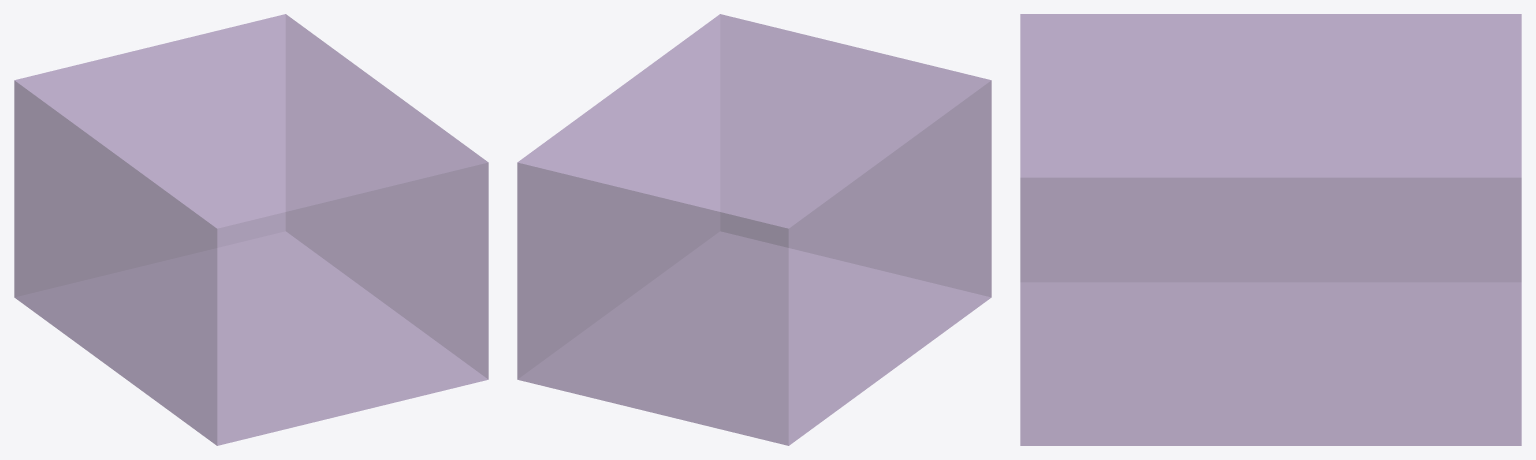
File: blockout.glb
The picture shows the model from 3 angles, left to right: view 1: azimuth 30°, elevation 25°; view 2: azimuth 150°, elevation 25°; view 3: azimuth 270°, elevation 25°; orthographic projection. The views are drawn at different scales.
Parts seen in each view (by area): view 1: D02_ENVELOPE_NOT_FINAL_MESH; view 2: D02_ENVELOPE_NOT_FINAL_MESH; view 3: D02_ENVELOPE_NOT_FINAL_MESH.
Boxes of the visible parts, <box> form: D02_ENVELOPE_NOT_FINAL_MESH: <box>14,14,488,445</box>; D02_ENVELOPE_NOT_FINAL_MESH: <box>517,14,991,445</box>; D02_ENVELOPE_NOT_FINAL_MESH: <box>1020,14,1521,445</box>.
Size of the model in its own units: 0.85 by 0.65 by 1.1.
